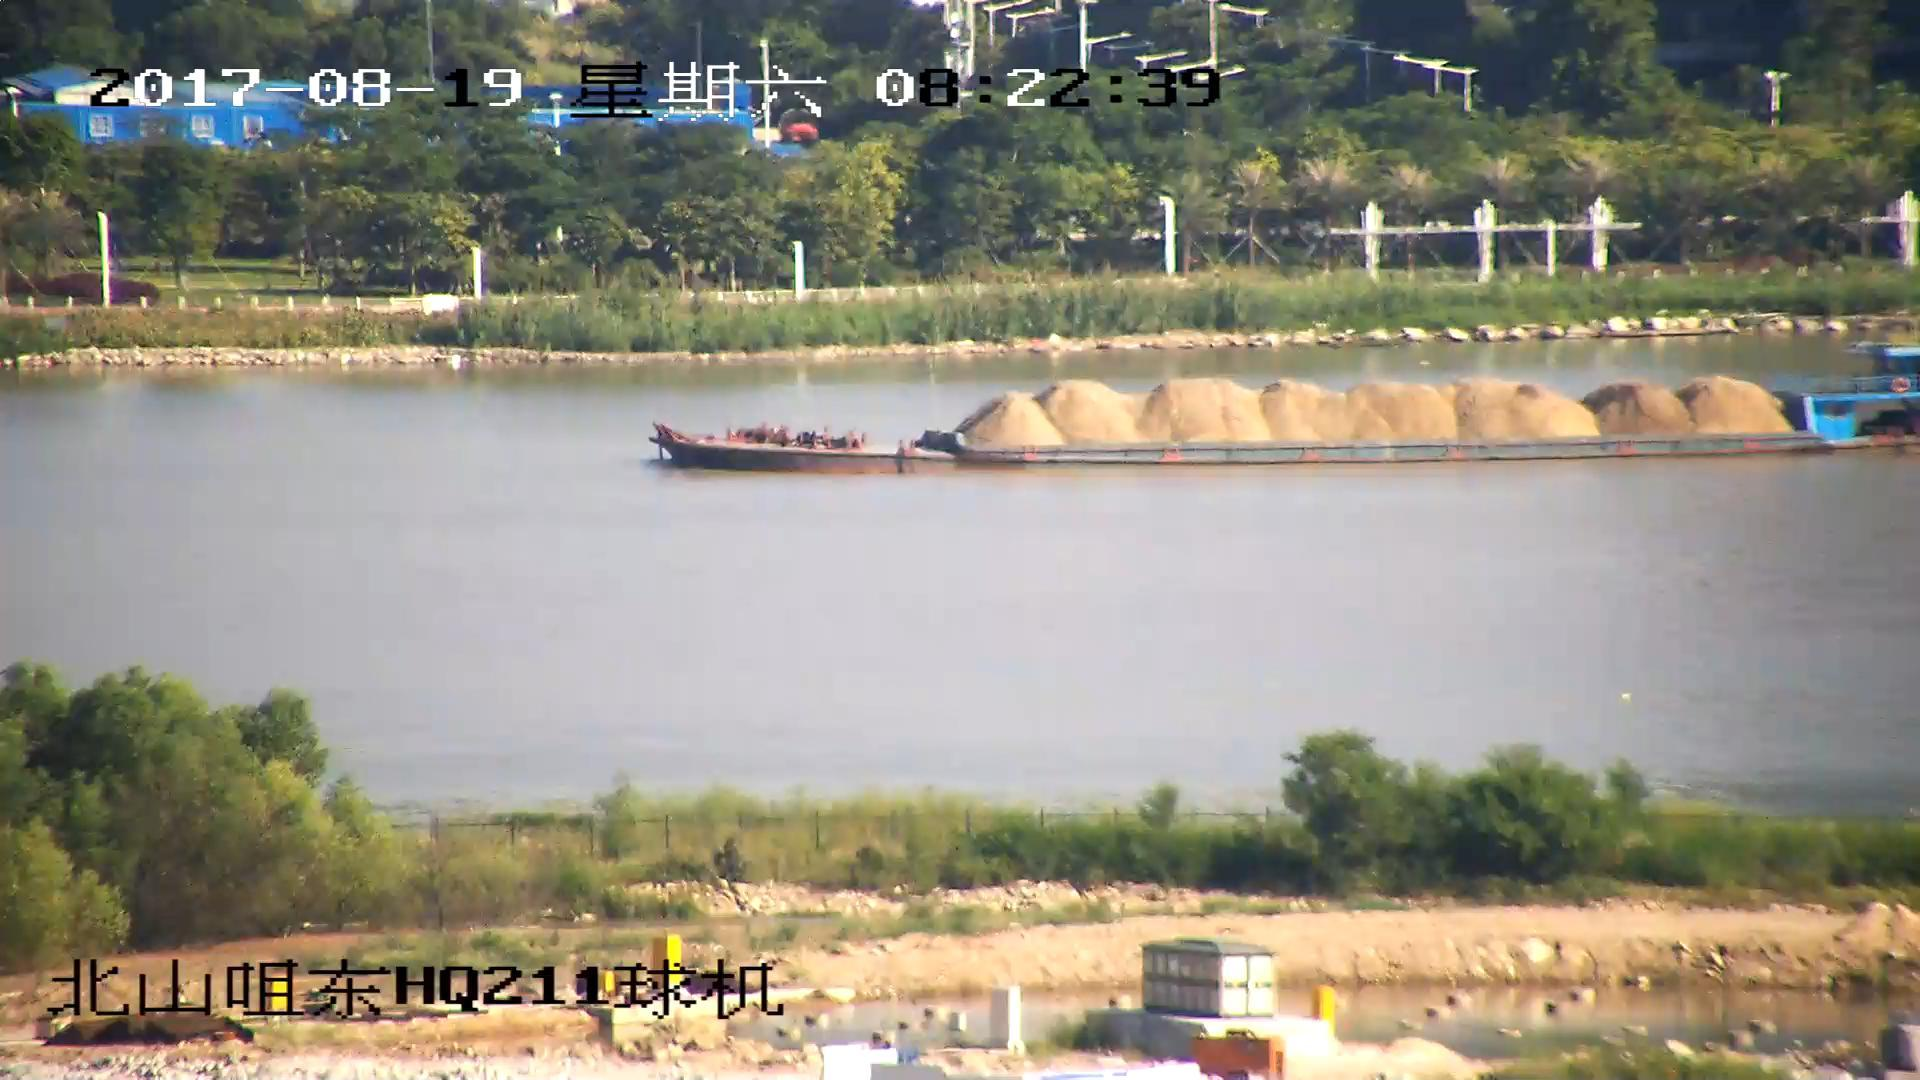Ship: (647, 343, 1920, 468)
